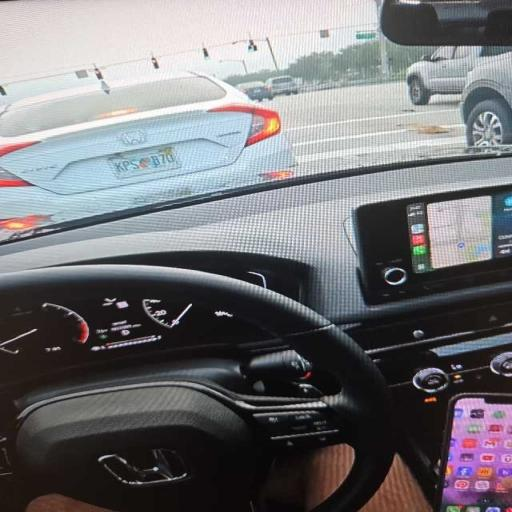car: (0, 0, 511, 511), (0, 73, 295, 229), (406, 47, 511, 105), (461, 54, 511, 146), (236, 82, 273, 101), (265, 76, 298, 96)
lane: (269, 83, 464, 174), (286, 109, 453, 132)
